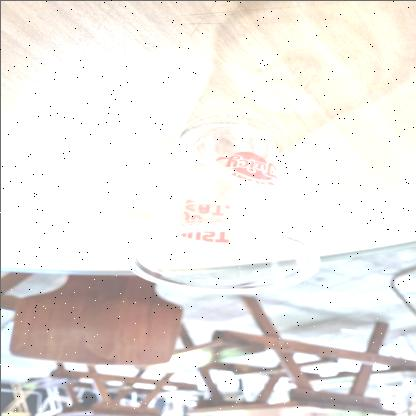Others: (125, 117, 321, 294)
